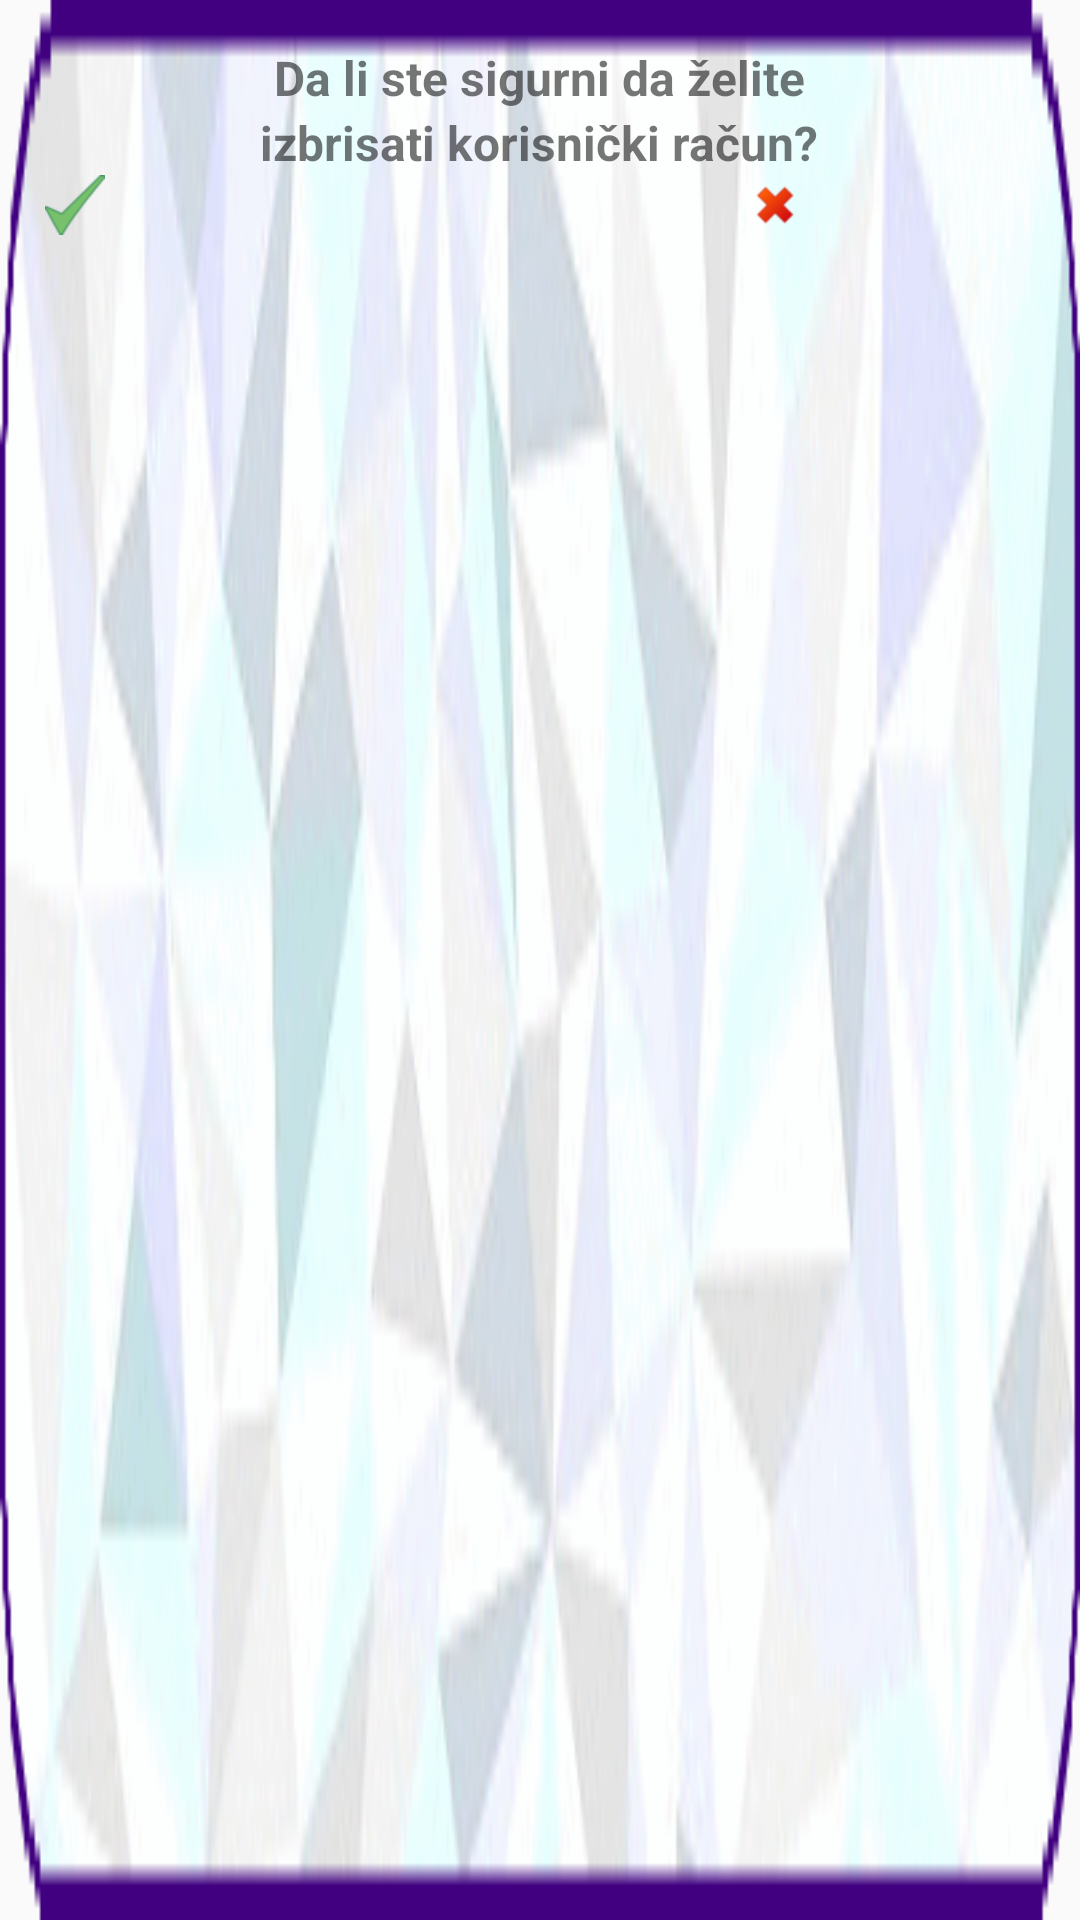

Named icons in this screenshot (1080px x 1920px) and their bounding boxes, (x1, y1, x2, y2):
right: (45, 175, 105, 235)
wrong: (757, 187, 794, 224)
